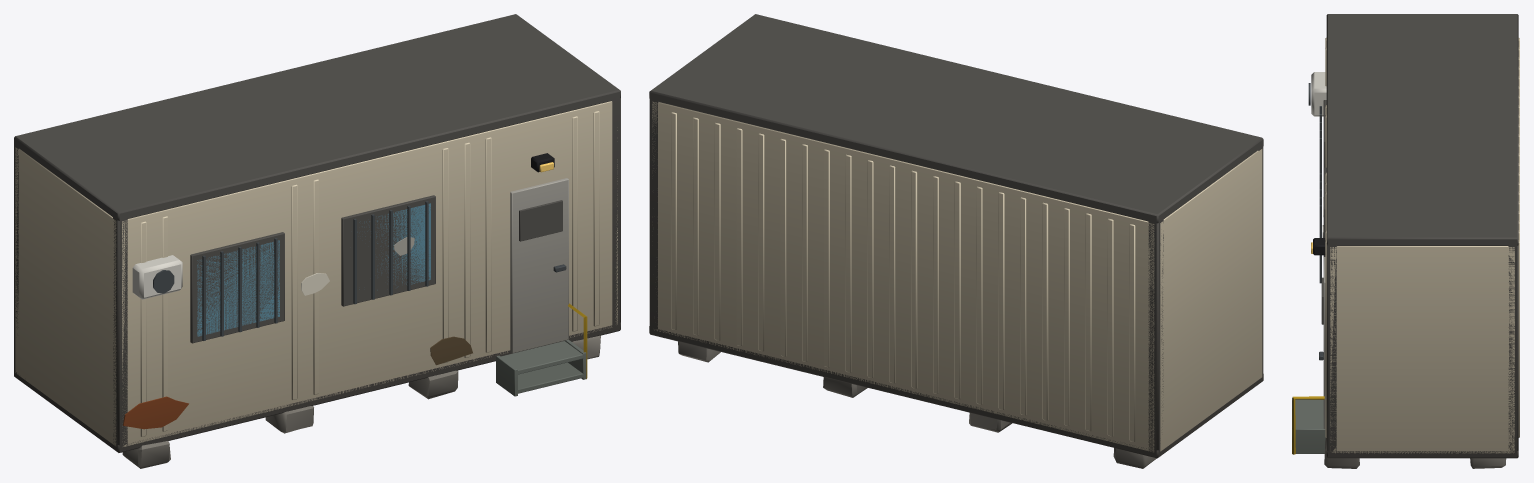
The model's file is 40_bungalow_chantier.fbx.
3 views of the same model, side by side, from view 1: azimuth 30°, elevation 25°; view 2: azimuth 150°, elevation 25°; view 3: azimuth 270°, elevation 25° (orthographic). The views are drawn at different scales.
Parts seen in each view (by area): view 1: Bungalow, Porte, Vitres; view 2: Bungalow; view 3: Bungalow, Porte, Lampe.
Boxes of the visible parts, box(x1,y1,x2,y2) form: Bungalow: box(14, 14, 620, 468); Porte: box(510, 178, 568, 353); Vitres: box(197, 203, 430, 336); Bungalow: box(649, 14, 1263, 468); Bungalow: box(1292, 14, 1519, 468); Porte: box(1319, 257, 1325, 429); Lampe: box(1311, 238, 1325, 255).
Bounding box in the file's own units: 3.92 × 1.96 × 1.68.
Materials: 1 (1 with a texture image).
